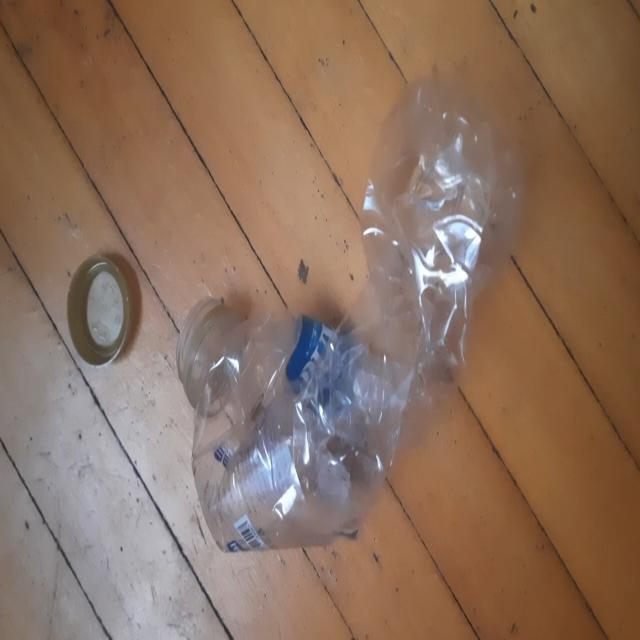Plastic: (187, 74, 520, 554)
